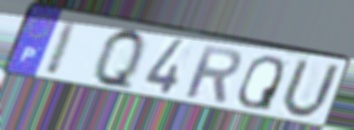4: (143, 37, 185, 96)
I: (42, 18, 82, 78)
Q: (92, 25, 148, 94), (235, 54, 286, 113)
R: (183, 42, 244, 105)
U: (278, 56, 344, 122)
